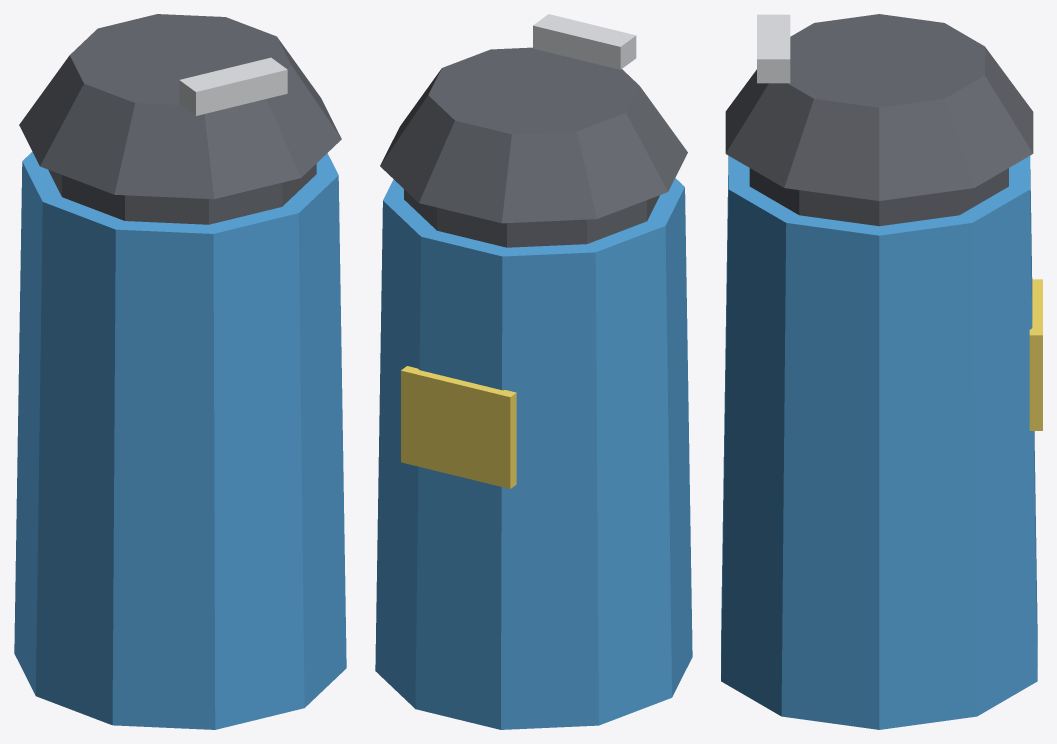
File: dog-agility-and-training-field-field-litter-bin-eeefea95.glb
The picture shows the model from 3 angles, left to right: view 1: azimuth 30°, elevation 25°; view 2: azimuth 150°, elevation 25°; view 3: azimuth 270°, elevation 25°; orthographic projection. The views are drawn at different scales.
Parts seen in each view (by area): view 1: field-litter-bin-azure, lid/charcoal, field-litter-bin-charcoal, lid/steel; view 2: field-litter-bin-azure, lid/charcoal, field-litter-bin-sunflower, field-litter-bin-charcoal, lid/steel; view 3: field-litter-bin-azure, lid/charcoal, field-litter-bin-charcoal, lid/steel, field-litter-bin-sunflower.
Boxes of the visible parts, x1,y1,x2,y2 form: field-litter-bin-azure: (14, 151, 346, 729); lid/charcoal: (19, 14, 341, 199); field-litter-bin-charcoal: (48, 163, 316, 224); lid/steel: (179, 57, 287, 115); field-litter-bin-azure: (375, 178, 692, 729); lid/charcoal: (380, 47, 687, 223); field-litter-bin-sunflower: (401, 366, 516, 488); field-litter-bin-charcoal: (404, 189, 659, 247); lid/steel: (533, 14, 636, 69); field-litter-bin-azure: (721, 155, 1037, 729); lid/charcoal: (725, 14, 1033, 200); field-litter-bin-charcoal: (749, 168, 1008, 226); lid/steel: (757, 14, 790, 83); field-litter-bin-sunflower: (1029, 279, 1042, 430).
Size of the model in its own units: 0.504 by 1.04 by 0.4873.
